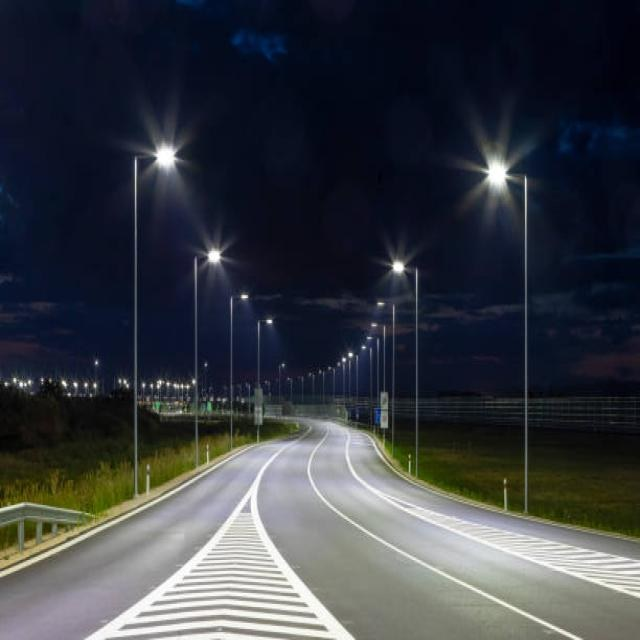acesa: (448, 110, 542, 213), (130, 109, 198, 174), (190, 228, 238, 274), (378, 242, 418, 283)
